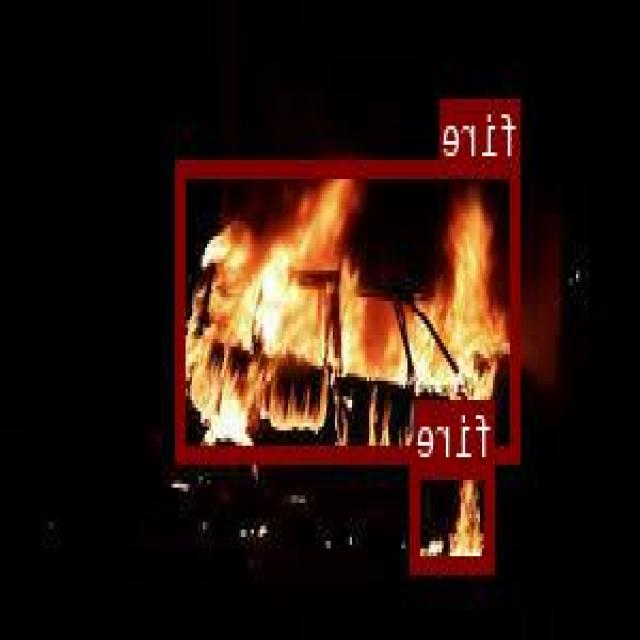fire: (178, 157, 523, 459), (413, 459, 497, 569)
